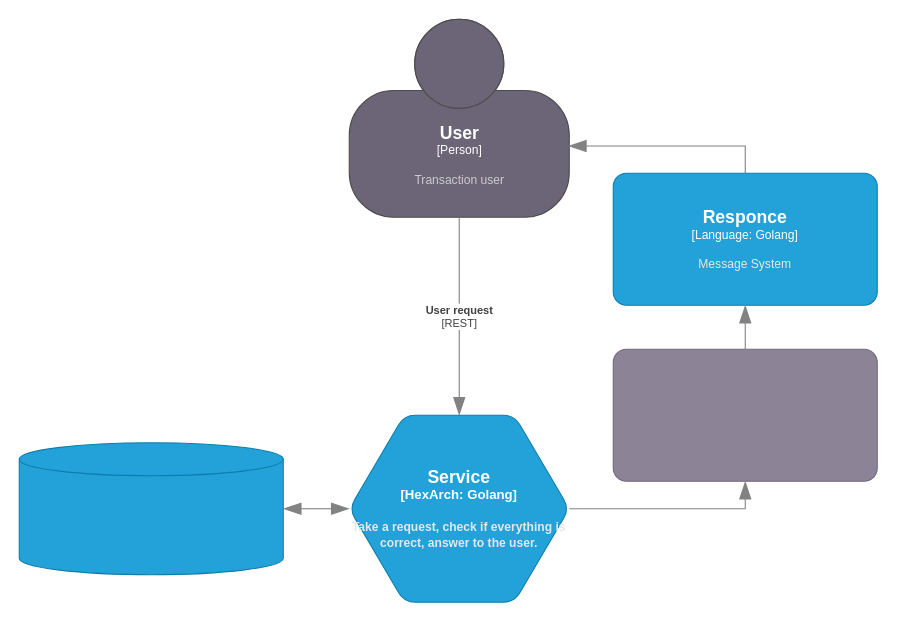
Some shapes in this 897 by 622 pixel diagram are drawn without their labels. The shapes that lost their labels are listed below. From the top down, each one's centre as x and y in pixels, then its label:
At (744,414): "Message broker [Apache Kafka / Rabbit MQ]".
At (150,508): "UserCardInfo [DB: PostgreSQL] User information storage".
